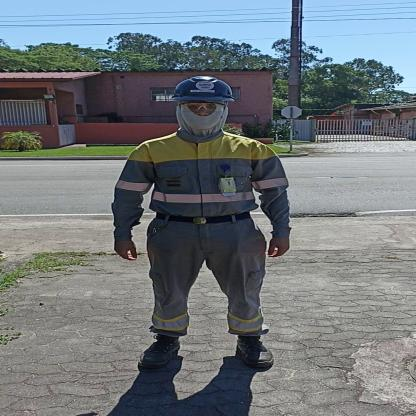Balaclava: (175, 99, 227, 138)
Capacete: (171, 74, 232, 98)
